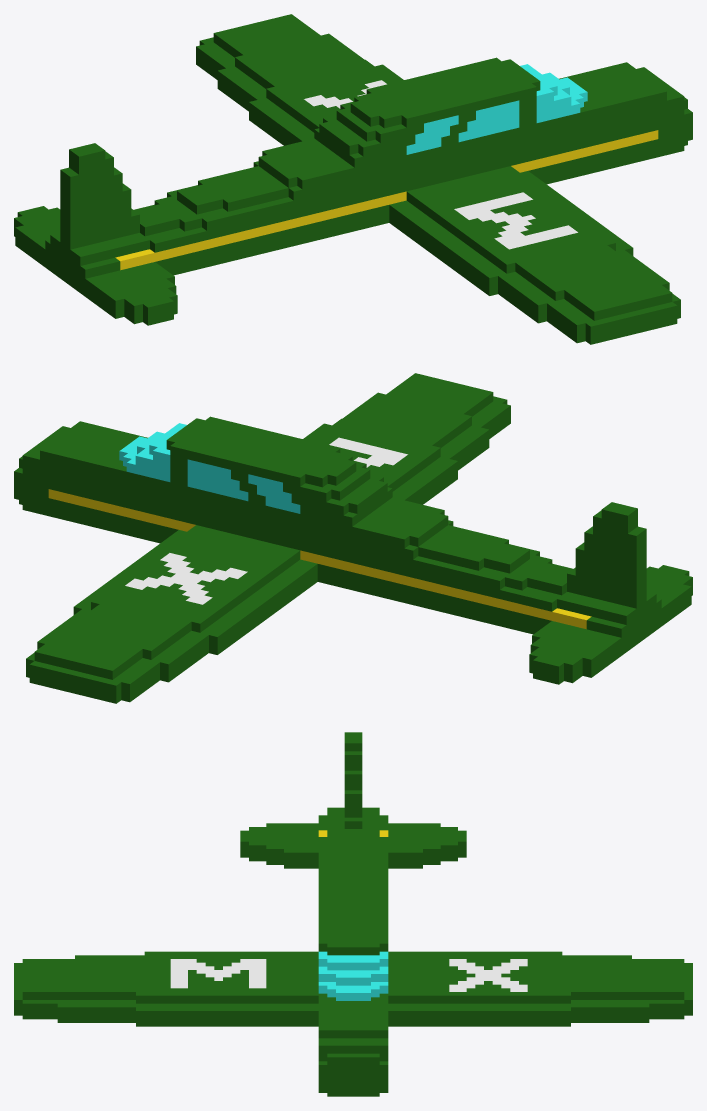
File: avion.obj
The picture shows the model from 3 angles, top to bottom: view 1: azimuth 30°, elevation 25°; view 2: azimuth 150°, elevation 25°; view 3: azimuth 270°, elevation 25°; orthographic projection. The views are drawn at different scales.
Parts seen in each view (by area): view 1: avion; view 2: avion; view 3: avion.
Part boxes in pixels (x1,y1,x2,y2): avion: [14, 14, 692, 344]; avion: [14, 373, 692, 703]; avion: [14, 732, 692, 1096].
Size of the model in its own units: 70 by 14 by 78.
1 material, 1 textured.
